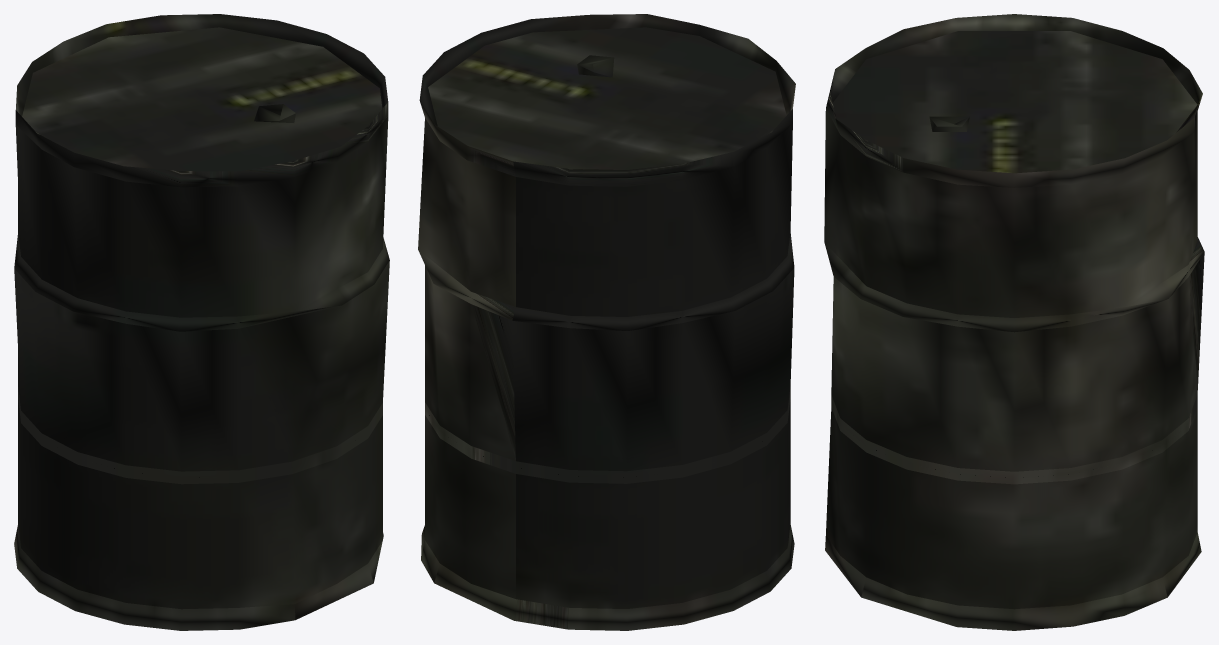
The model's file is mb-barrel-fuel.lod1.glb.
3 views of the same model, side by side, from view 1: azimuth 30°, elevation 25°; view 2: azimuth 150°, elevation 25°; view 3: azimuth 270°, elevation 25° (orthographic).
Parts seen in each view (by area): view 1: barrel_fuel; view 2: barrel_fuel; view 3: barrel_fuel.
Part boxes in pixels (<box>): barrel_fuel: <box>14,14,389,630</box>; barrel_fuel: <box>418,14,795,630</box>; barrel_fuel: <box>824,14,1204,630</box>.
Size of the model in its own units: 0.6609 by 0.8784 by 0.6609.
Materials: 1 (1 with a texture image).
